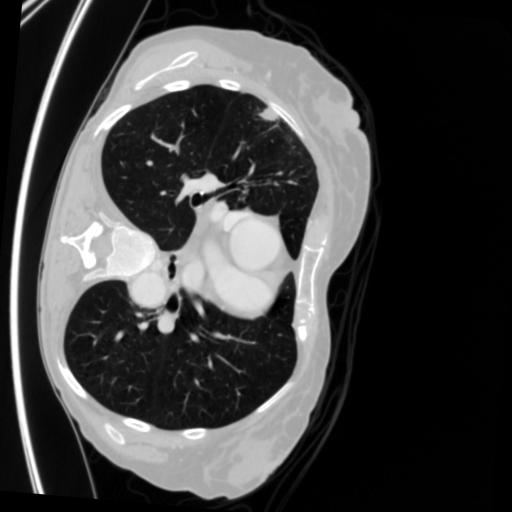nodule: (260, 103, 284, 127)
